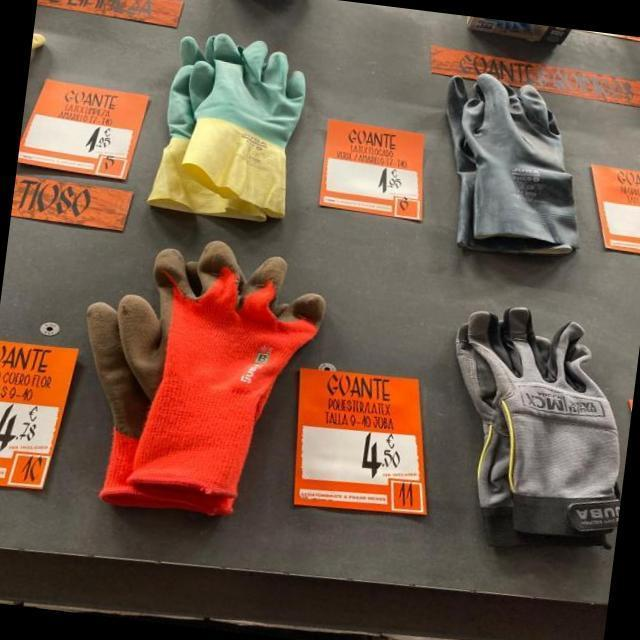Gloves: (84, 238, 329, 510), (457, 305, 623, 550), (155, 34, 309, 227), (443, 71, 583, 254)
